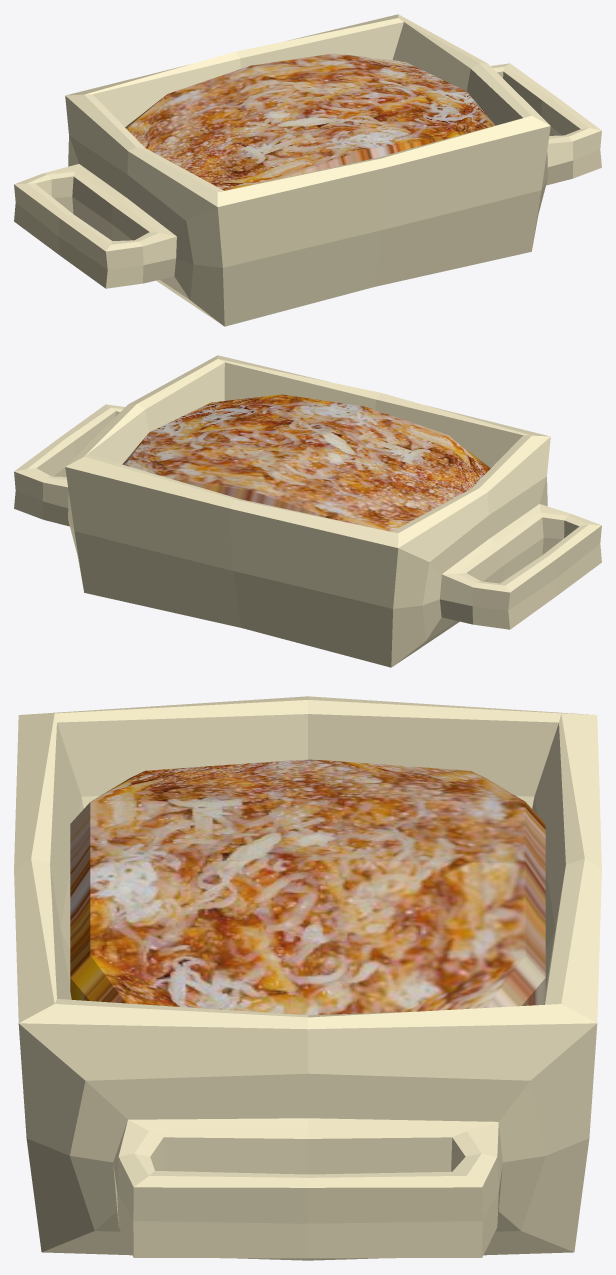
File: patates_cooked.fbx
3 views of the same model, one above another, from view 1: azimuth 30°, elevation 25°; view 2: azimuth 150°, elevation 25°; view 3: azimuth 270°, elevation 25° (orthographic). The views are drawn at different scales.
Visible parts, largest first — view 1: Cube_2, Cube; view 2: Cube_2, Cube; view 3: Cube_2, Cube.
Part boxes in pixels (bbox=[...]): Cube_2: bbox=[14, 14, 601, 326]; Cube: bbox=[125, 53, 494, 190]; Cube_2: bbox=[14, 355, 601, 667]; Cube: bbox=[122, 394, 490, 531]; Cube_2: bbox=[14, 696, 601, 1260]; Cube: bbox=[70, 759, 545, 1015].
Bounding box in the file's own units: 161 × 43.04 × 86.93.
2 materials, 1 textured.
